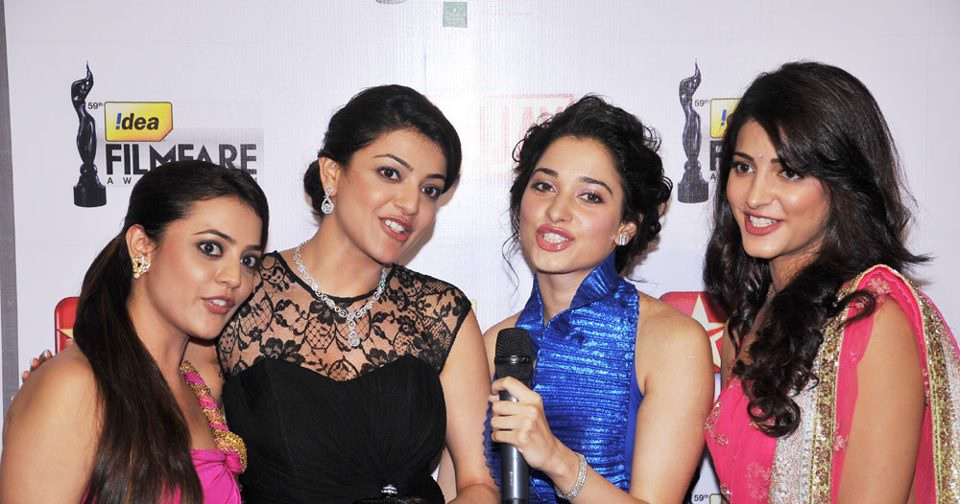bad: (509, 163, 617, 271), (354, 140, 462, 247), (712, 140, 820, 247), (163, 211, 270, 319)
